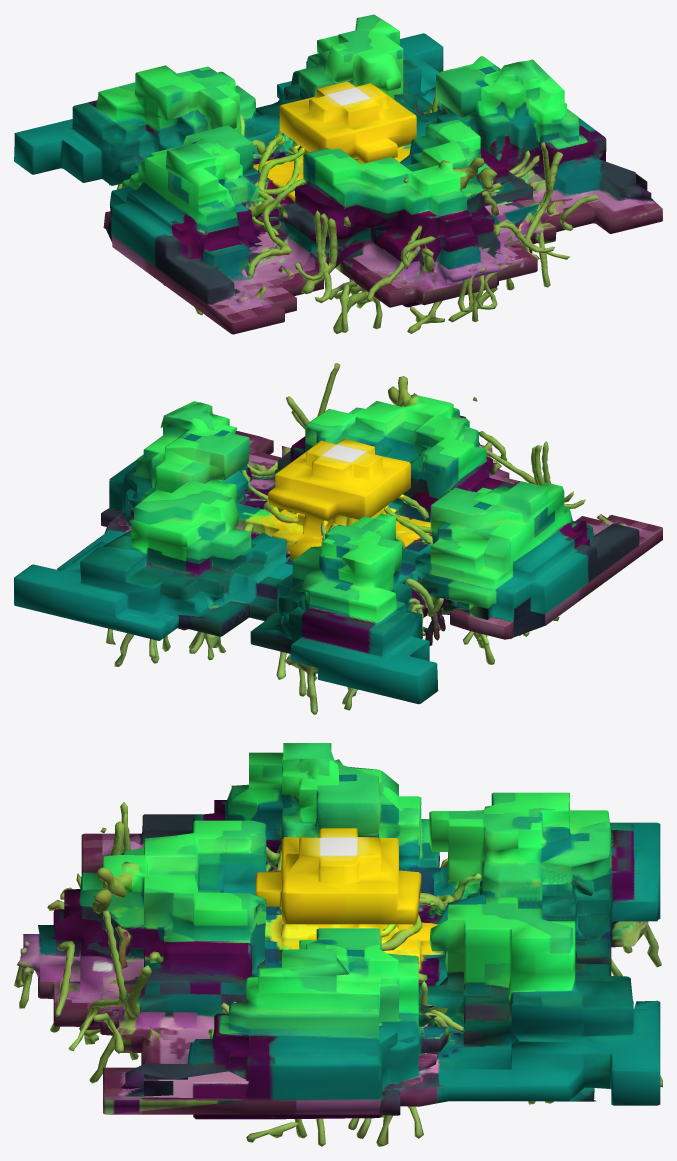
The model's file is weeds.glb.
3 renders of one model, top to bottom at view 1: azimuth 30°, elevation 25°; view 2: azimuth 150°, elevation 25°; view 3: azimuth 270°, elevation 25°, orthographic. The views are drawn at different scales.
Bounding box in the file's own units: 1.87 × 0.6693 × 1.91.
Materials: 1 (1 with a texture image).
